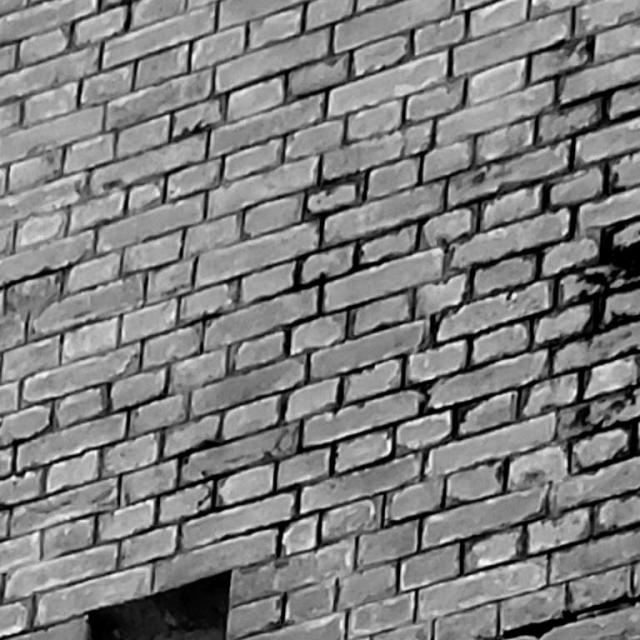crack: (500, 593, 638, 640)
